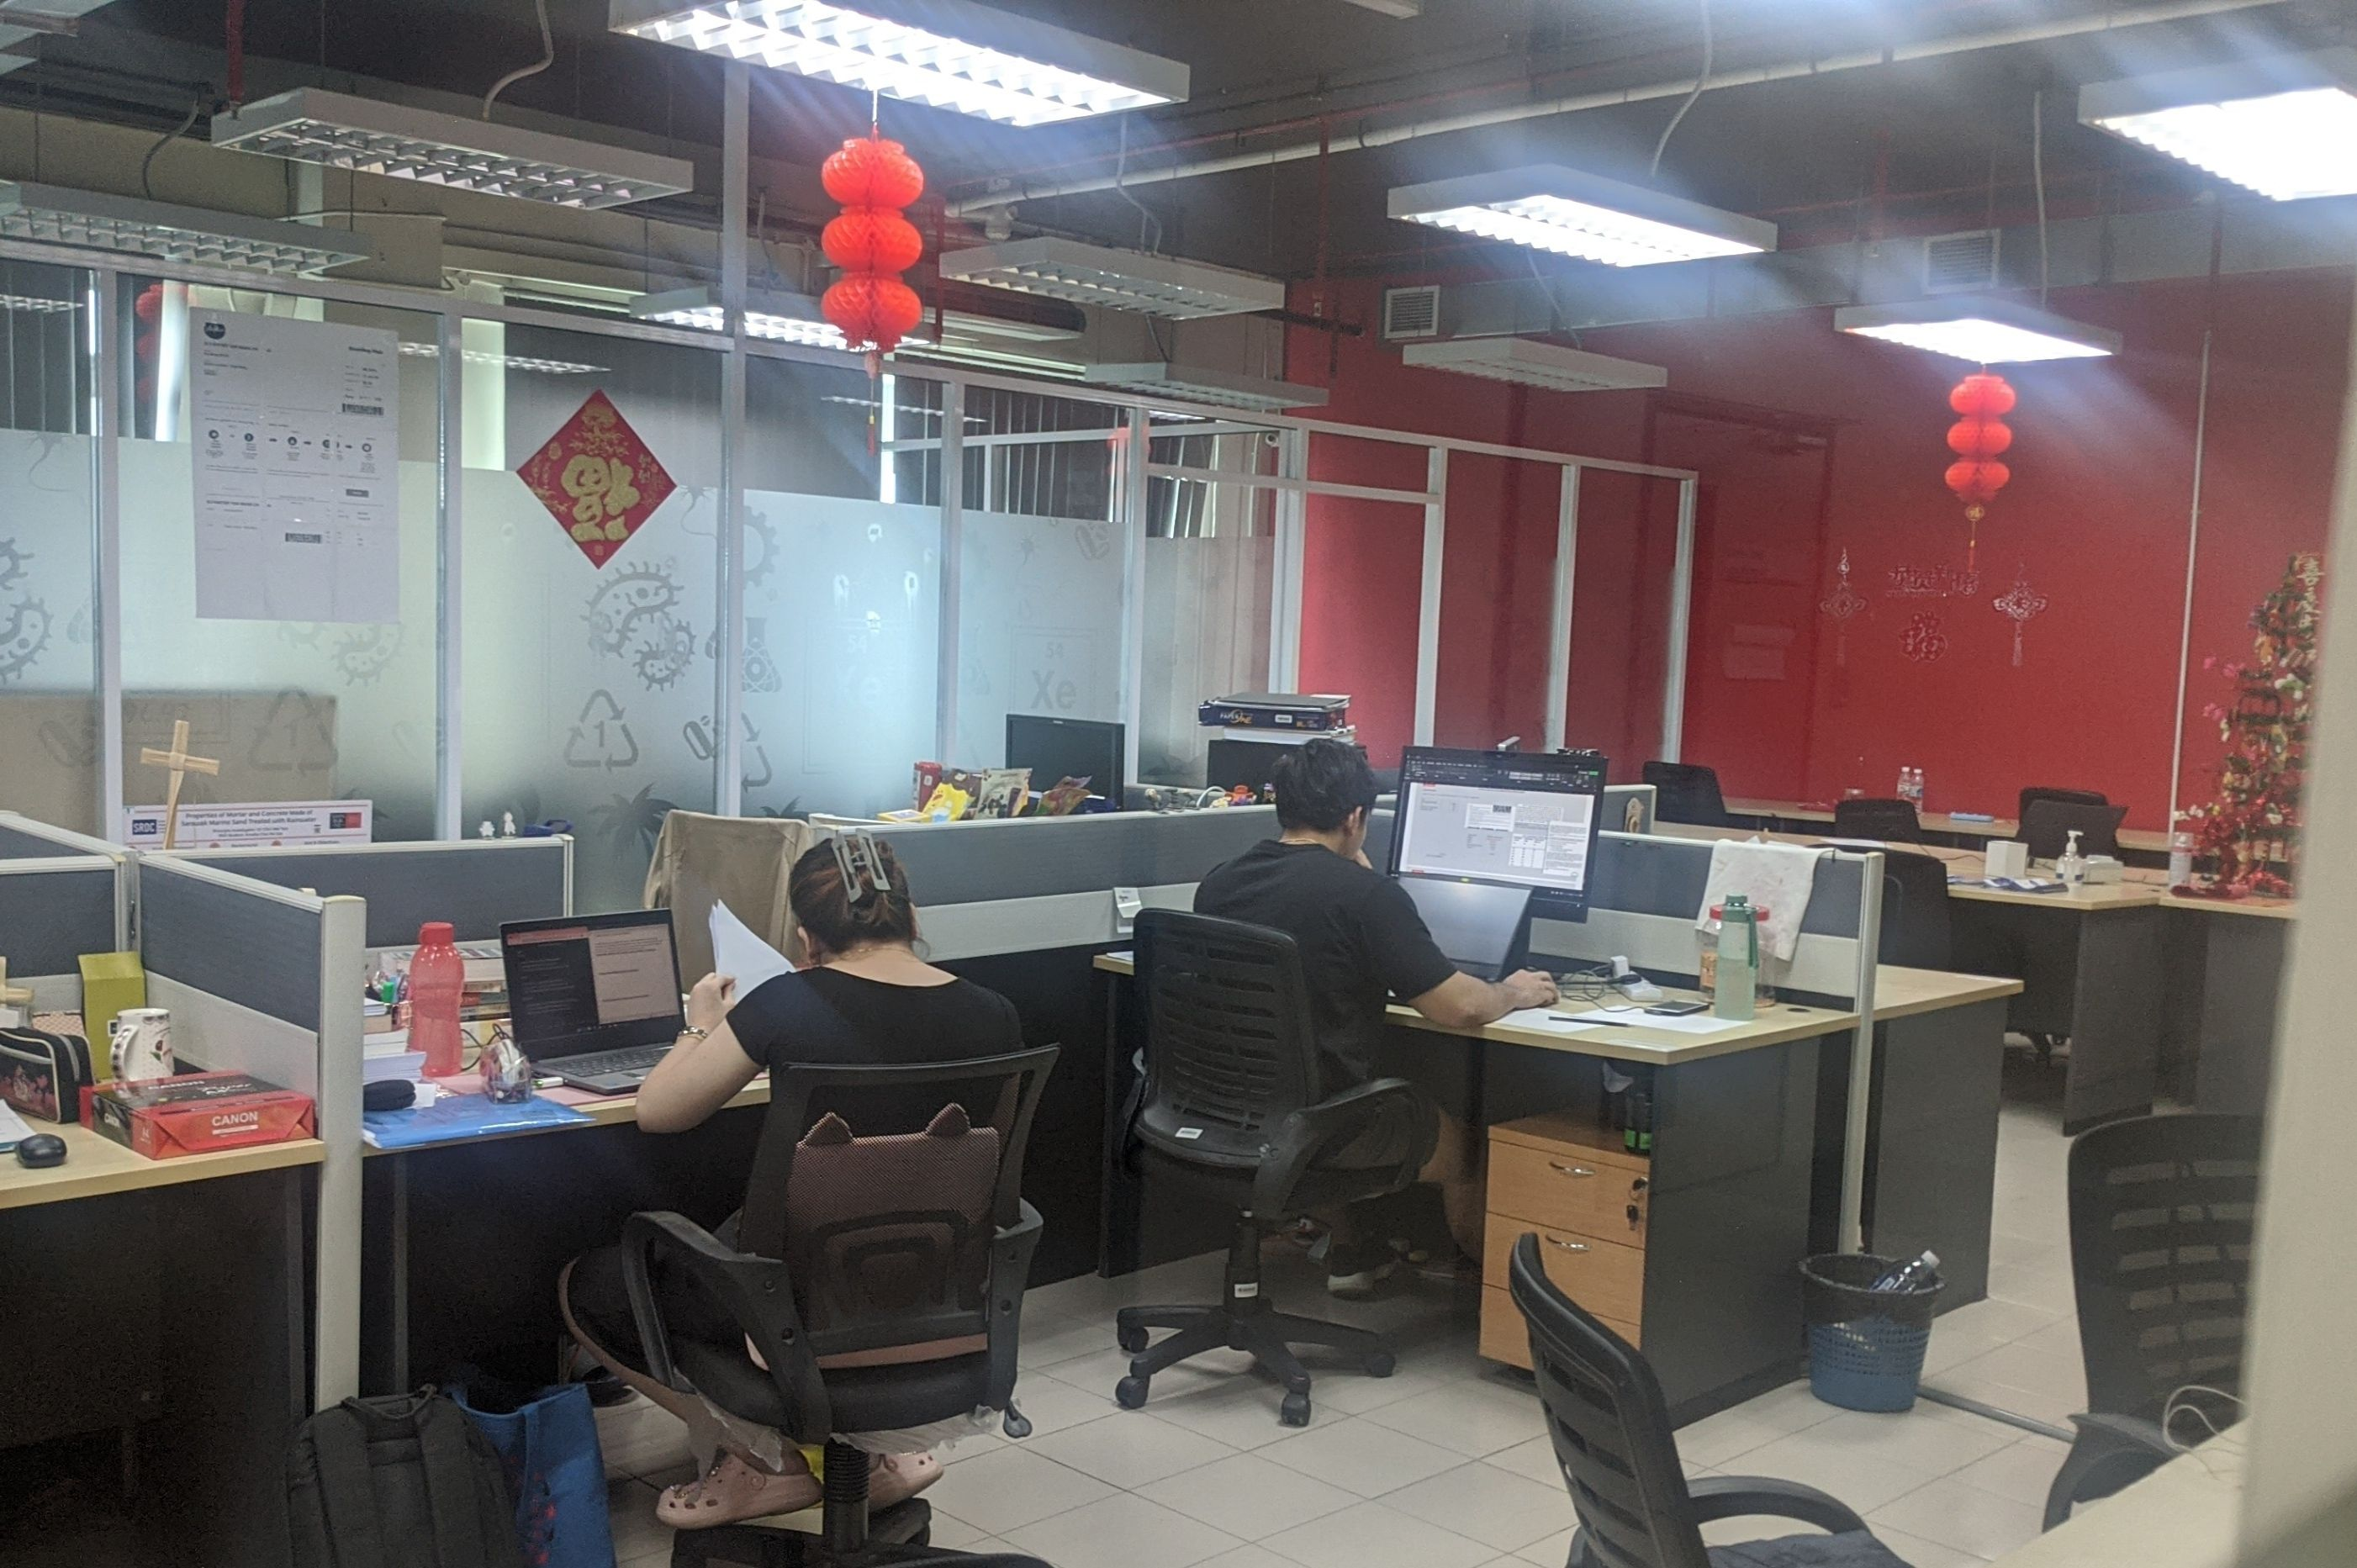sit: (1087, 665, 1468, 1376), (614, 725, 994, 1356)
